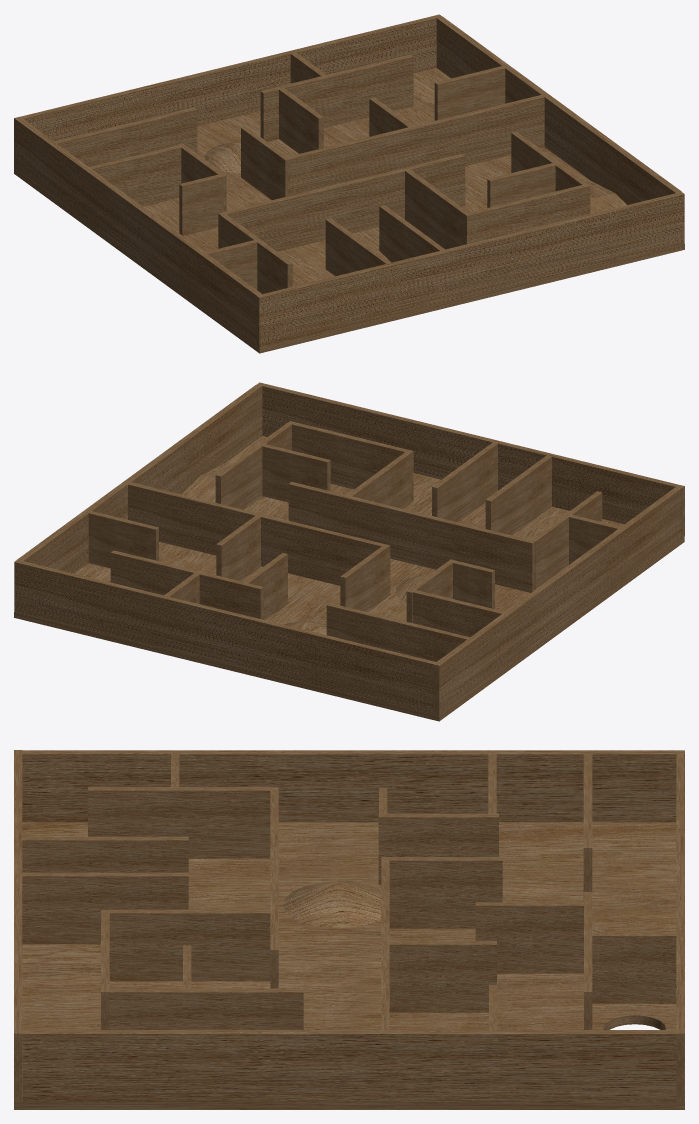
File: Labyrinth_2.obj
3 renders of one model, top to bottom at view 1: azimuth 30°, elevation 25°; view 2: azimuth 150°, elevation 25°; view 3: azimuth 270°, elevation 25°, orthographic. The views are drawn at different scales.
Parts seen in each view (by area): view 1: Labyrinth_lvl2; view 2: Labyrinth_lvl2; view 3: Labyrinth_lvl2.
Part boxes in pixels (x1=…): Labyrinth_lvl2: x1=14, y1=14, x2=684, y2=353; Labyrinth_lvl2: x1=14, y1=382, x2=684, y2=721; Labyrinth_lvl2: x1=14, y1=750, x2=684, y2=1109.
Size of the model in its own units: 24.71 by 3.11 by 24.68.
Materials: 1 (1 with a texture image).
